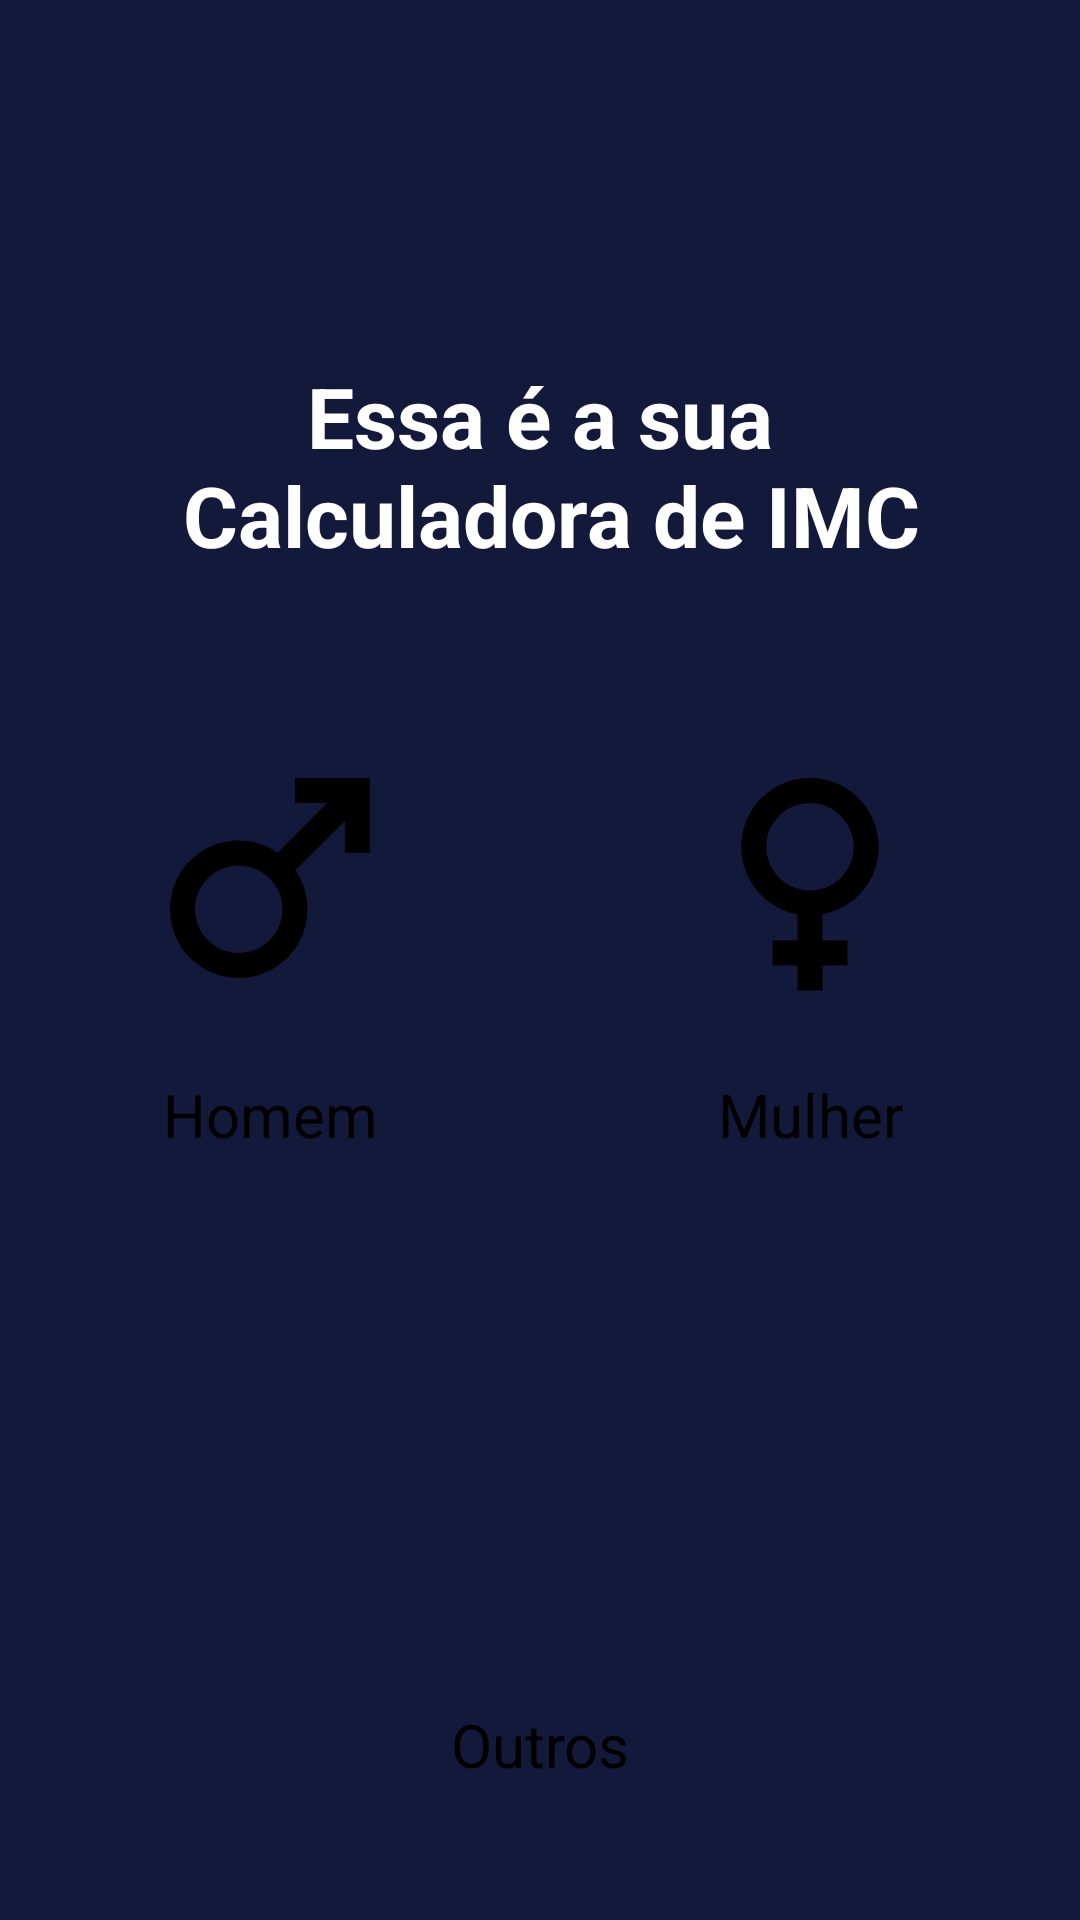

Screen size 1080 × 1920. Icon name, then its box in pixels as (x1, y1, x2, y2):
men: (170, 778, 370, 978)
women: (741, 778, 879, 991)
